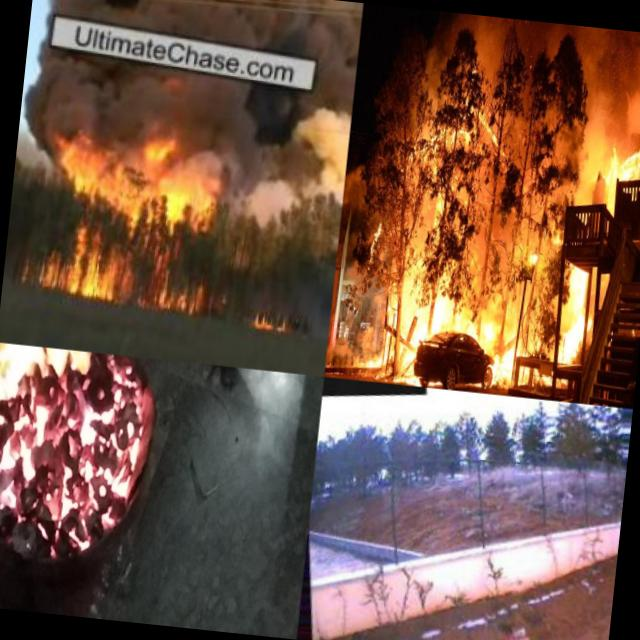fire: (0, 342, 96, 572), (77, 352, 156, 544), (36, 227, 129, 303), (542, 258, 598, 376), (467, 304, 528, 396), (60, 136, 138, 202), (136, 140, 196, 223), (146, 265, 204, 316), (595, 123, 640, 186), (247, 301, 288, 330), (486, 626, 566, 640)
smoke: (19, 59, 202, 142), (276, 97, 352, 201), (190, 134, 282, 207), (585, 27, 640, 132), (326, 332, 383, 371)
